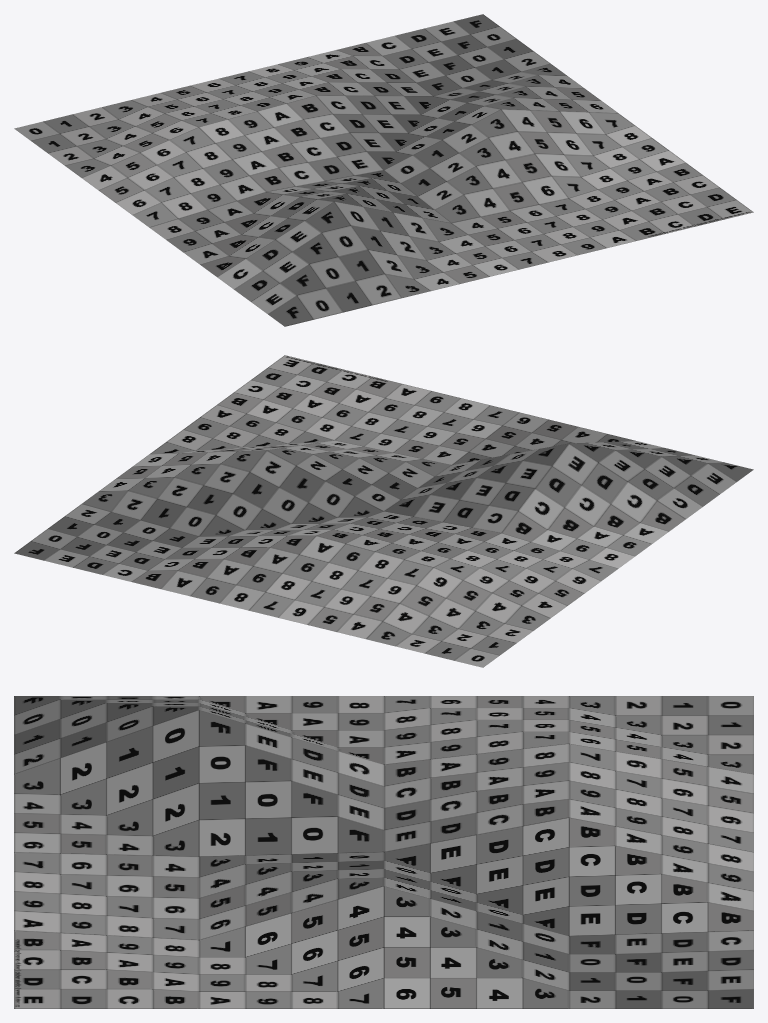
File: FloorTile1.fbx
3 renders of one model, top to bottom at view 1: azimuth 30°, elevation 25°; view 2: azimuth 150°, elevation 25°; view 3: azimuth 270°, elevation 25°, orthographic. The views are drawn at different scales.
Visible parts, largest first — view 1: pPlane8; view 2: pPlane8; view 3: pPlane8.
Boxes of the visible parts, left/top/right/bottom form: pPlane8: left=14, top=14, right=753, bottom=326; pPlane8: left=14, top=355, right=753, bottom=667; pPlane8: left=14, top=696, right=753, bottom=1008.
Size of the model in its own units: 1 by 0.1103 by 1.
1 material, 1 textured.
